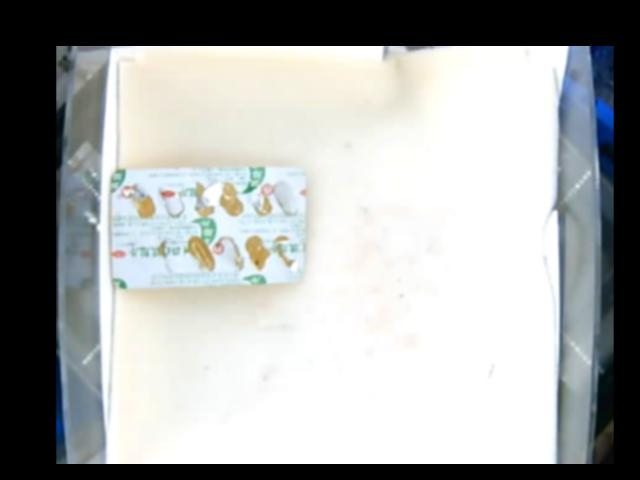Medicine: (106, 166, 308, 291)
